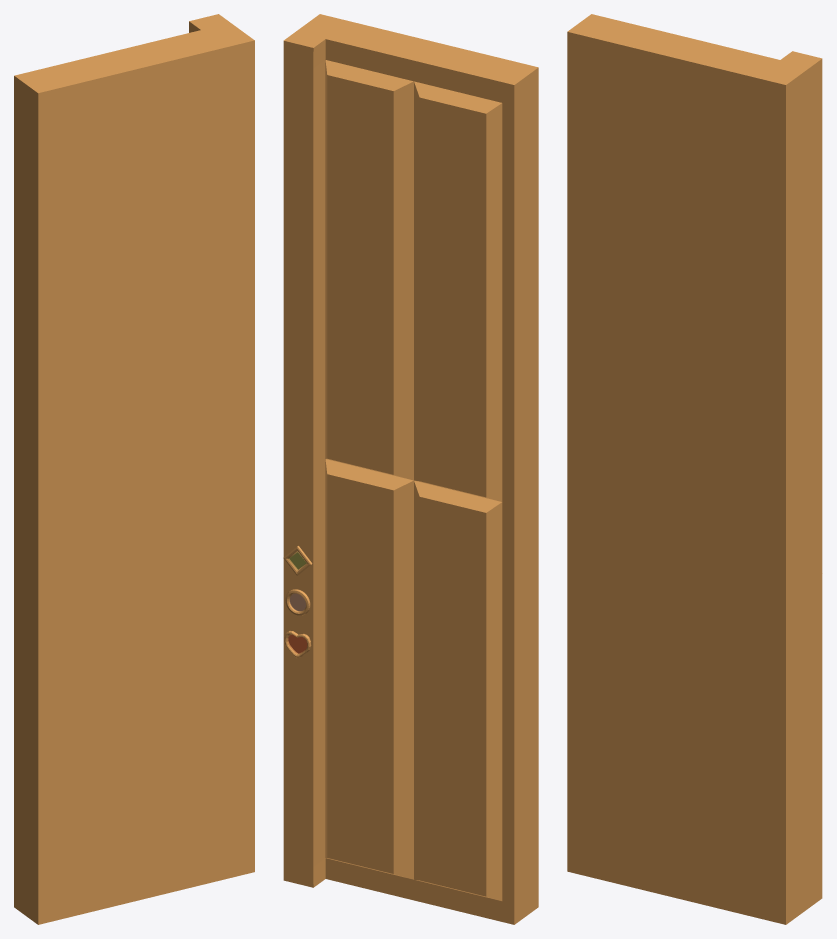
File: PortaPrincipal.fbx
3 renders of one model, left to right at view 1: azimuth 30°, elevation 25°; view 2: azimuth 150°, elevation 25°; view 3: azimuth 330°, elevation 25°, orthographic.
Visible parts, largest first — view 1: Cube.001; view 2: Cube.001, Chave 3, Chave 2; view 3: Cube.001.
Part boxes in pixels (x1=…): Cube.001: x1=14, y1=14, x2=254, y2=924; Cube.001: x1=283, y1=14, x2=538, y2=924; Chave 3: x1=284, y1=630, x2=311, y2=658; Chave 2: x1=285, y1=589, x2=310, y2=615; Cube.001: x1=567, y1=14, x2=822, y2=924.
Size of the model in its own units: 233 by 856 by 71.12.
